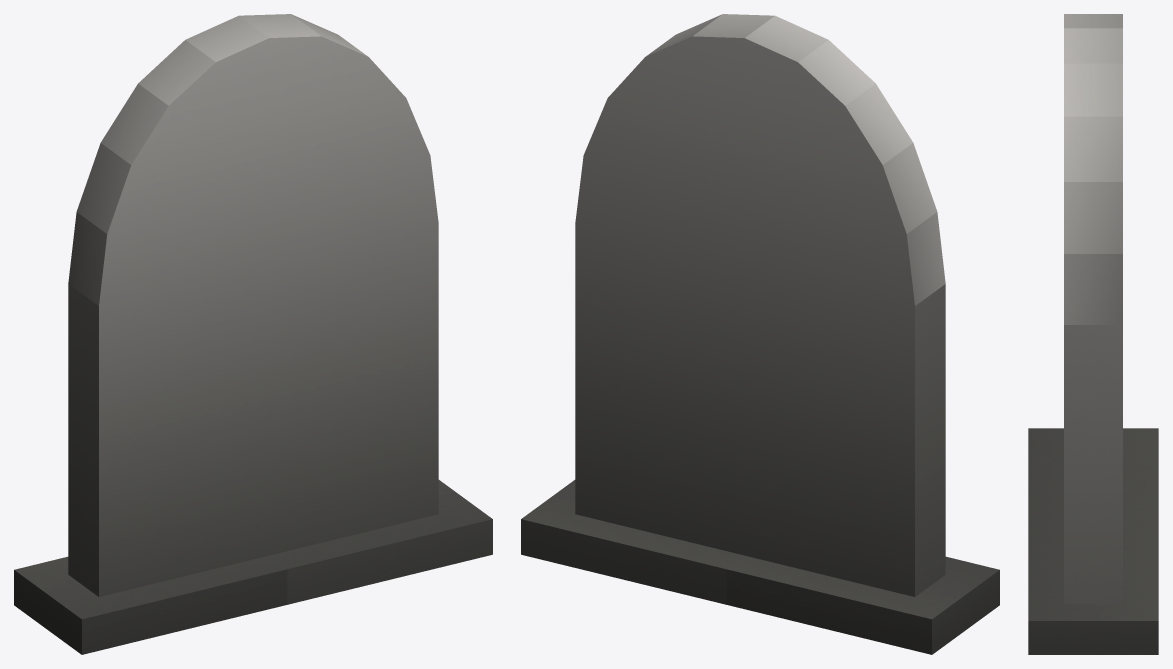
The model's file is tombston_model_01.fbx.
The picture shows the model from 3 angles, left to right: view 1: azimuth 30°, elevation 25°; view 2: azimuth 150°, elevation 25°; view 3: azimuth 270°, elevation 25°; orthographic projection. The views are drawn at different scales.
Visible parts, largest first — view 1: Cube; view 2: Cube; view 3: Cube.
Part boxes in pixels (<box>): Cube: <box>14,14,492,654</box>; Cube: <box>521,14,999,654</box>; Cube: <box>1028,14,1158,654</box>.
Size of the model in its own units: 0.7 by 0.9 by 0.2.
